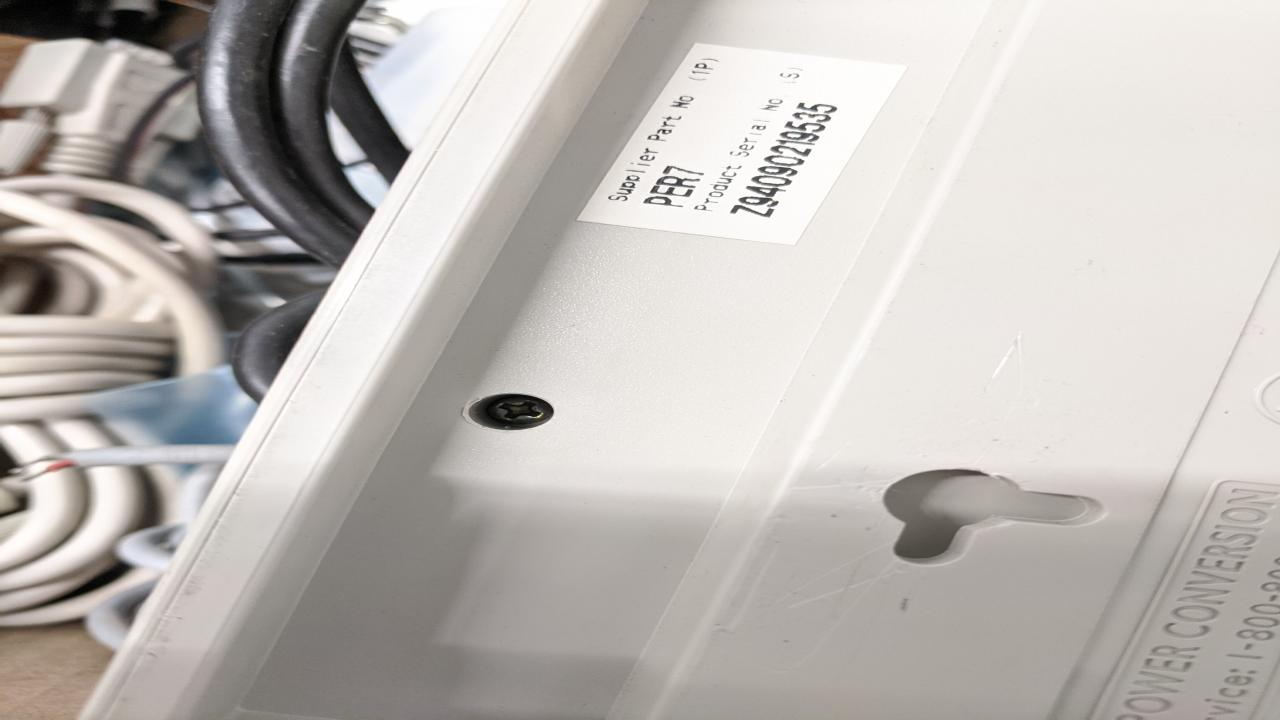CRS: (465, 392, 559, 427)
